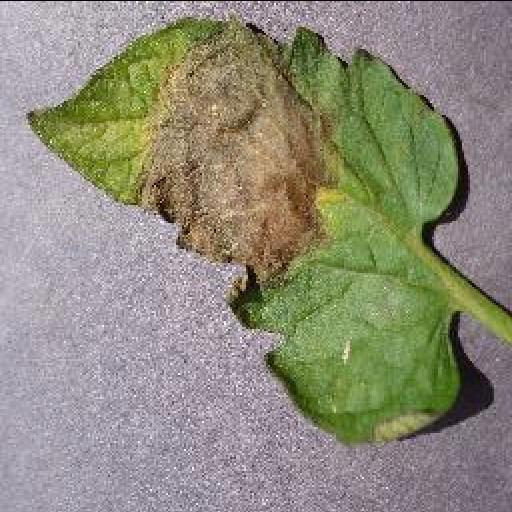disease_tomato: (23, 18, 461, 444)
